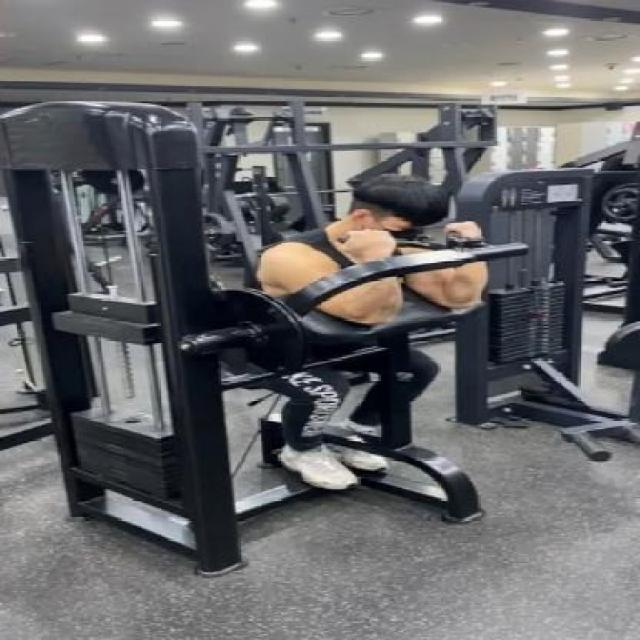arm curl machine: (16, 229, 530, 580)
